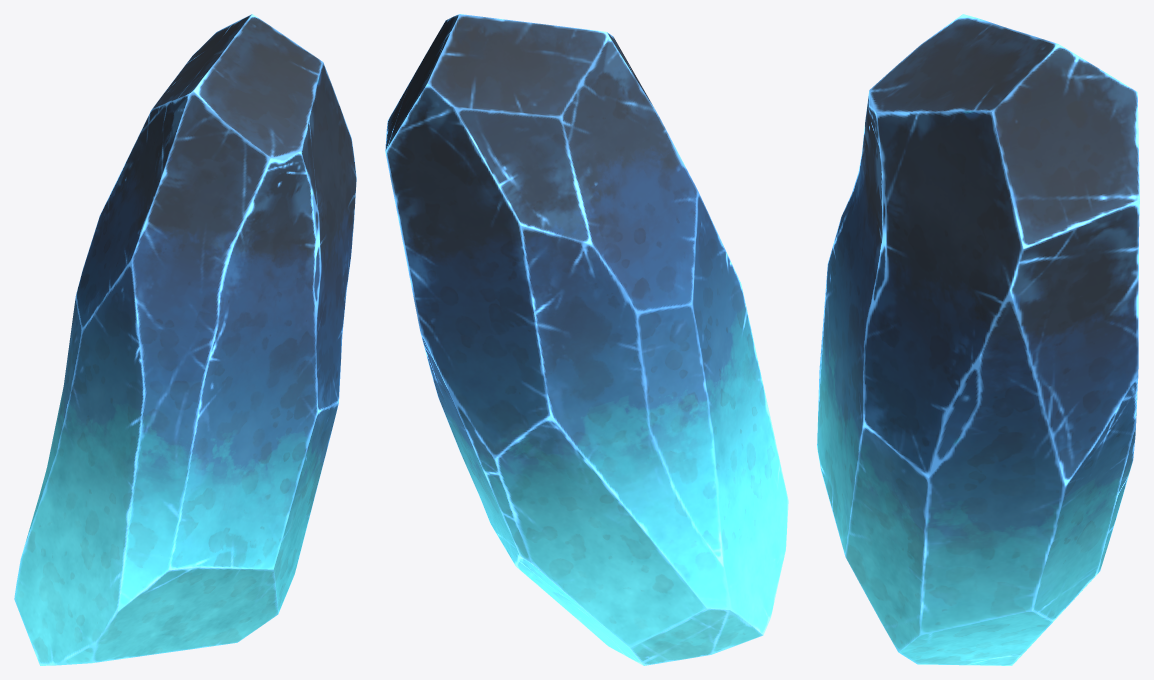
3 renders of one model, left to right at view 1: azimuth 30°, elevation 25°; view 2: azimuth 150°, elevation 25°; view 3: azimuth 270°, elevation 25°, orthographic. The views are drawn at different scales.
Visible parts, largest first — view 1: Crystal_low.002; view 2: Crystal_low.002; view 3: Crystal_low.002.
Part boxes in pixels (x1,y1,x2,y2): Crystal_low.002: (14, 14, 356, 665); Crystal_low.002: (385, 14, 788, 665); Crystal_low.002: (817, 14, 1139, 665).
Bounding box in the file's own units: 0.0709 × 0.1195 × 0.0504.
1 material, 1 textured.
